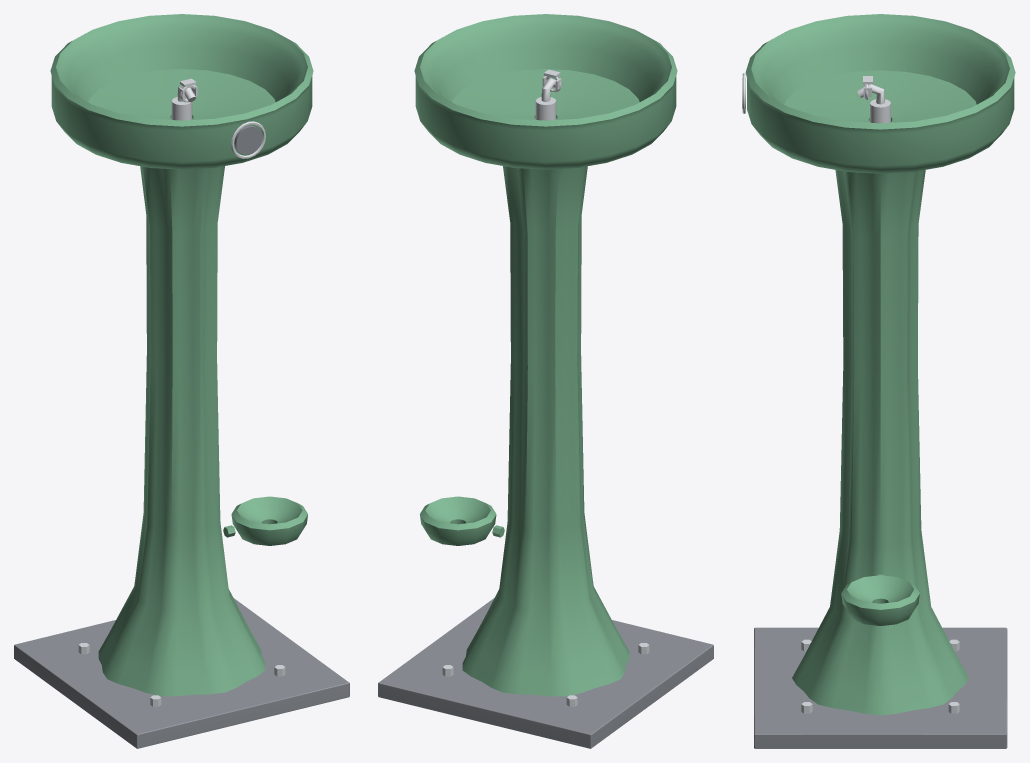
File: Fountain_Walk.fbx
3 views of the same model, side by side, from view 1: azimuth 30°, elevation 25°; view 2: azimuth 150°, elevation 25°; view 3: azimuth 270°, elevation 25° (orthographic). The views are drawn at different scales.
Parts seen in each view (by area): view 1: LOD0; view 2: LOD0; view 3: LOD0.
Boxes of the visible parts, x1=… form: LOD0: x1=14, y1=14, x2=349, y2=748; LOD0: x1=378, y1=14, x2=713, y2=748; LOD0: x1=742, y1=14, x2=1015, y2=748.
Size of what is drawn, in the model's own units: 39.6 by 98.4 by 38.85.
